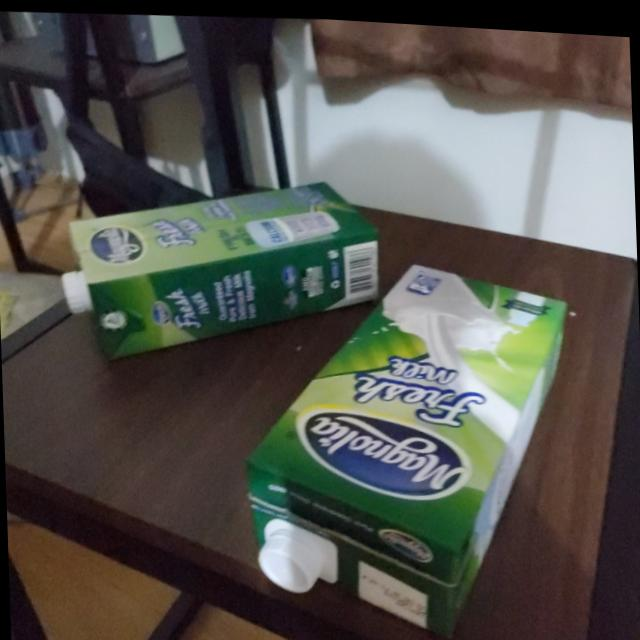milk: (233, 244, 584, 640), (63, 161, 390, 372)
